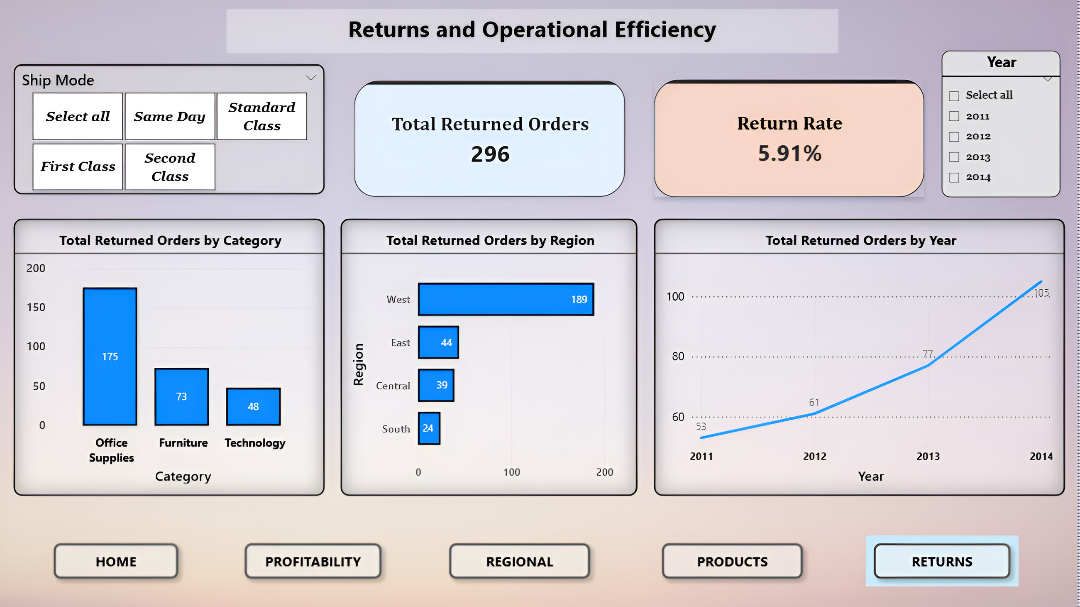

Layout of this report page (visuals, bound fields, positions):
{"tool":"powerbi","page":{"name":"Returns & Efficiency","canvas":[1280,720],"ordinal":4},"visuals":[{"type":"cardVisual","fields":{"Data":["Orders.Total Returned Orders"]},"box":[428.1,98.8,319.7,137.2],"z":0},{"type":"cardVisual","fields":{"Data":["Orders.Return Rate"]},"box":[780.8,97.4,318.4,138.6],"z":1000},{"type":"clusteredColumnChart","fields":{"Category":["Orders.Category"],"Y":["Orders.Total Returned Orders"]},"box":[27.4,262.1,366.4,326.6],"z":2000},{"type":"clusteredBarChart","fields":{"Category":["Orders.Region"],"Y":["Orders.Total Returned Orders"]},"box":[411.7,262.1,349.9,326.6],"z":3000},{"type":"lineChart","fields":{"Category":["Orders.Order Date.Variation.Date Hierarchy.Year"],"Y":["Orders.Total Returned Orders"]},"box":[780.8,262.1,484.4,326.6],"z":4000},{"type":"slicer","fields":{"Values":["Orders.Ship Mode"]},"box":[27.4,79.6,366.4,153.7],"z":5000},{"type":"actionButton","box":[65.1,634.6,165.3,60.3],"z":6000},{"type":"actionButton","box":[289.5,634.6,179.8,60.3],"z":7000},{"type":"actionButton","box":[530.8,634.6,184.6,60.3],"z":8000},{"type":"actionButton","box":[781.8,634.6,184.6,60.3],"z":9000},{"type":"actionButton","box":[1030.3,634.6,179.8,60.3],"z":10000},{"type":"textbox","box":[277.2,15.1,720.4,52.1],"z":11000},{"type":"slicer","title":"Year","fields":{"Values":["Orders.Order Date.Variation.Date Hierarchy.Year"]},"box":[1119.7,63.1,140,172.9],"z":12000}]}

Visuals, with their boxes in screenshot pixels (x1, y1, x2, y2), scaled from the page's 1280x720 canvas onto the 1080x607 screenshot:
cardVisual - Orders.Total Returned Orders: select_region(361, 83, 631, 199)
cardVisual - Orders.Return Rate: select_region(659, 82, 927, 199)
clusteredColumnChart - Orders.Category x Orders.Total Returned Orders: select_region(23, 221, 332, 496)
clusteredBarChart - Orders.Region x Orders.Total Returned Orders: select_region(347, 221, 643, 496)
lineChart - Orders.Order Date.Variation.Date Hierarchy.Year x Orders.Total Returned Orders: select_region(659, 221, 1068, 496)
slicer - Orders.Ship Mode: select_region(23, 67, 332, 197)
actionButton: select_region(55, 535, 194, 586)
actionButton: select_region(244, 535, 396, 586)
actionButton: select_region(448, 535, 604, 586)
actionButton: select_region(660, 535, 815, 586)
actionButton: select_region(869, 535, 1021, 586)
textbox: select_region(234, 13, 842, 57)
"Year" slicer: select_region(945, 53, 1063, 199)
